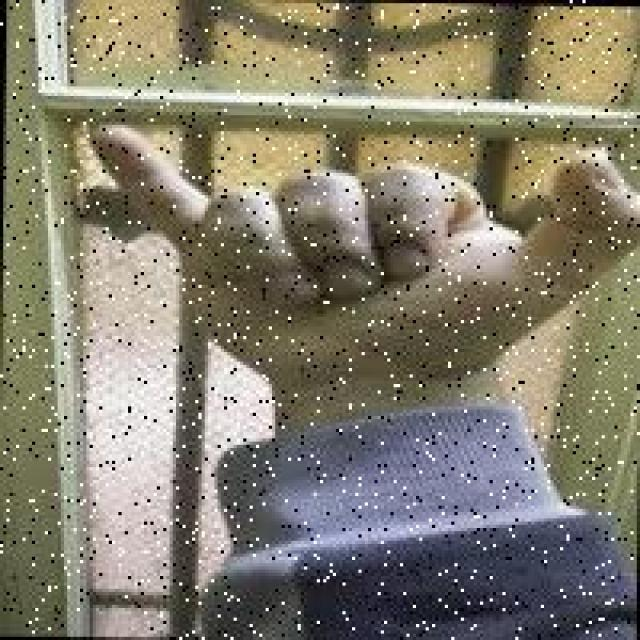Y: (89, 115, 640, 380)
